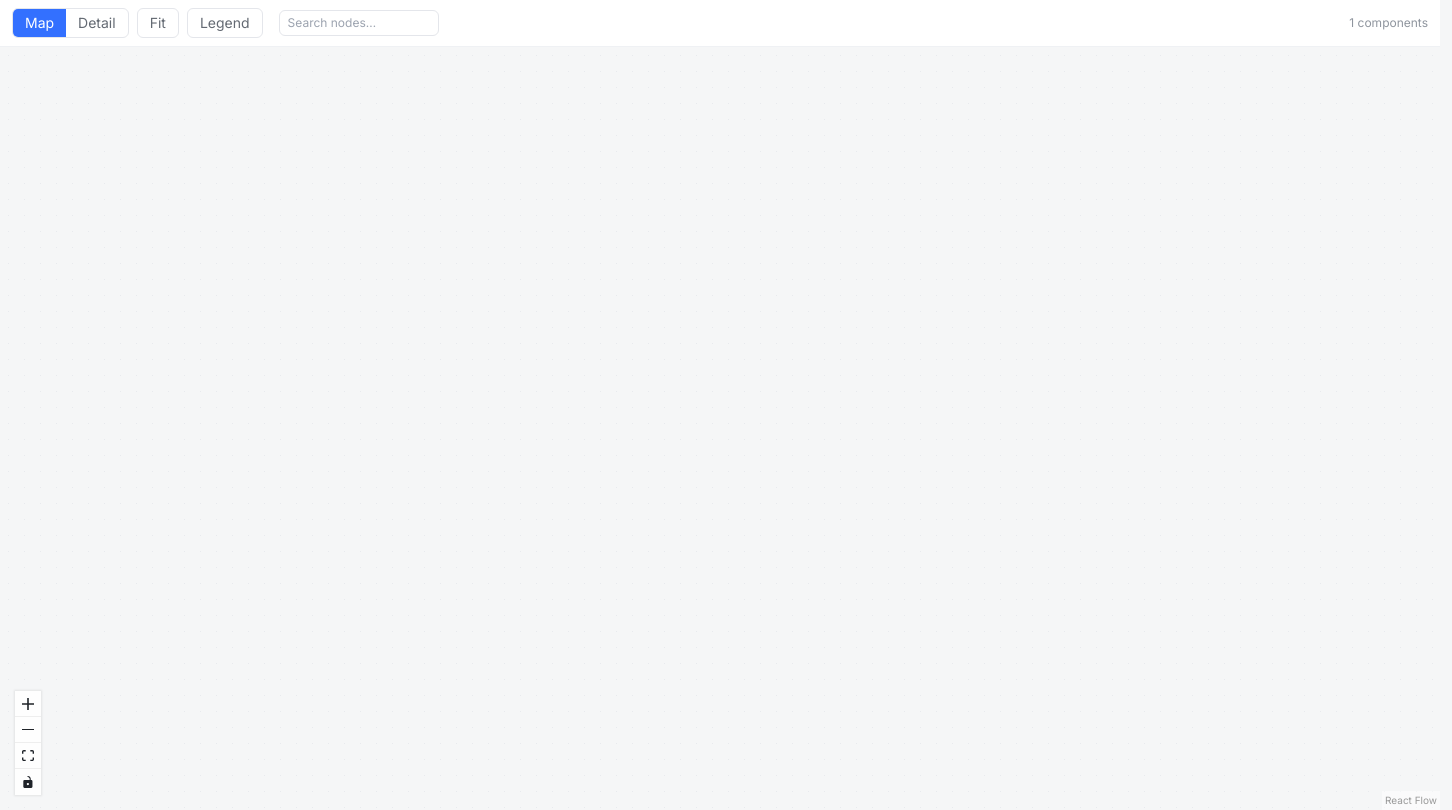
Test: FlowCanvas legend › legend is hidden until toggled, then lists edge + node kinds
The width and height of the screenshot is (1452, 810).
Click the button with test id "legend-toggle" at (225, 23), box [187, 8, 263, 38]
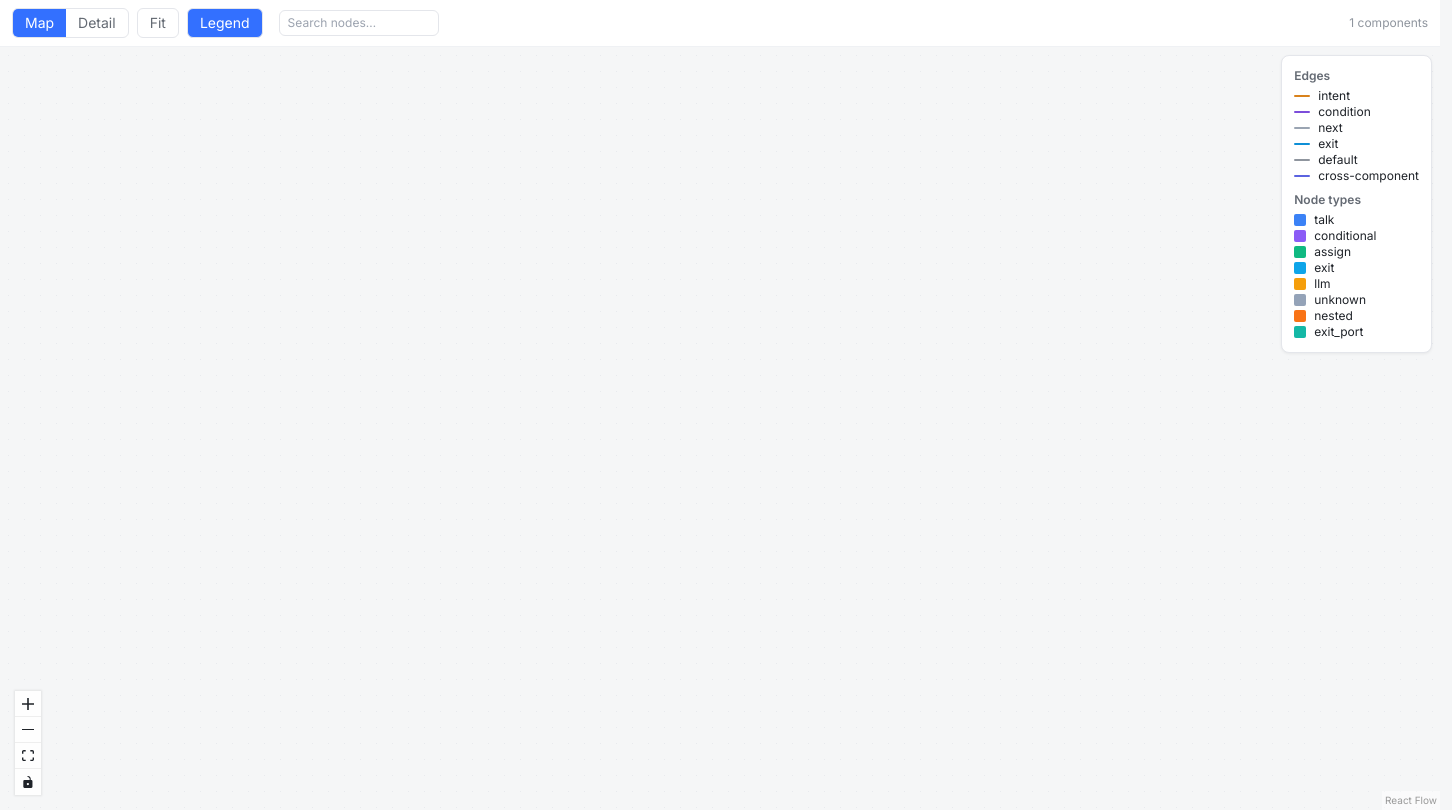
Now the element with test id "graph-legend" is shown, box [1281, 55, 1432, 353]
Now the element with test id "graph-legend" shows "intent", box [1318, 88, 1350, 103]
Now the element with test id "graph-legend" shows "cross-component", box [1318, 168, 1419, 183]
